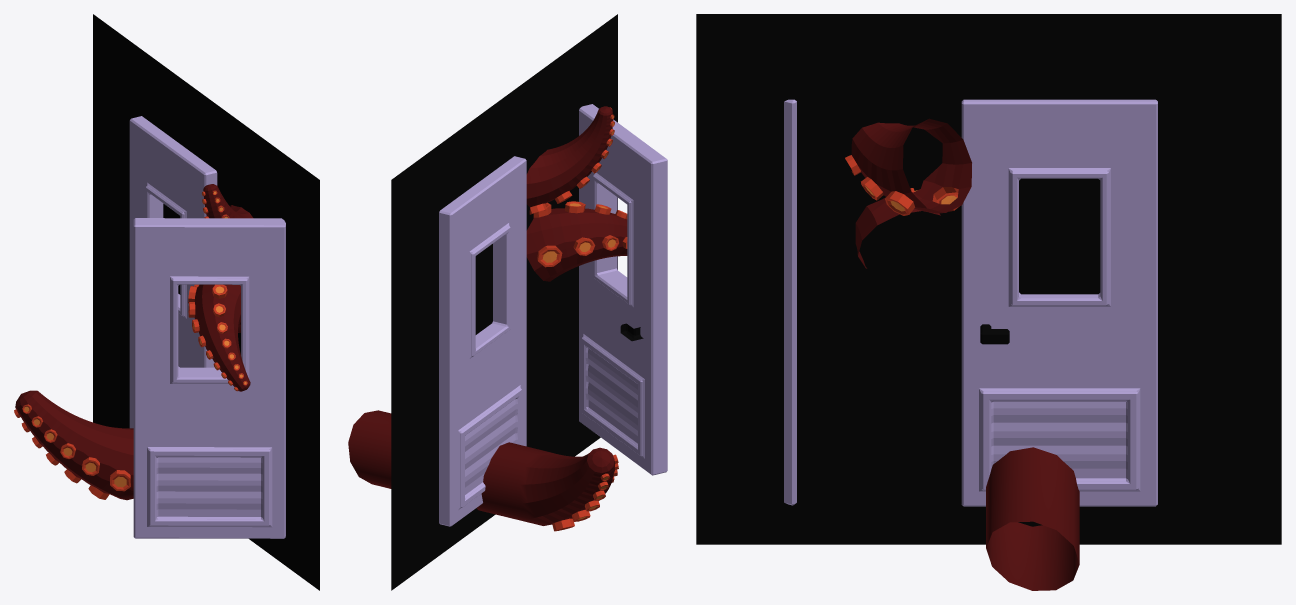
The model's file is OverWorldDoor.fbx.
3 renders of one model, left to right at view 1: azimuth 30°, elevation 25°; view 2: azimuth 150°, elevation 25°; view 3: azimuth 270°, elevation 25°, orthographic. The views are drawn at different scales.
Parts seen in each view (by area): view 1: Cube.050; view 2: Cube.050; view 3: Cube.050.
Boxes of the visible parts, bbox=[...] form: Cube.050: bbox=[14, 14, 319, 590]; Cube.050: bbox=[348, 14, 667, 590]; Cube.050: bbox=[696, 14, 1281, 590].
Bounding box in the file's own units: 140 × 200 × 200.
